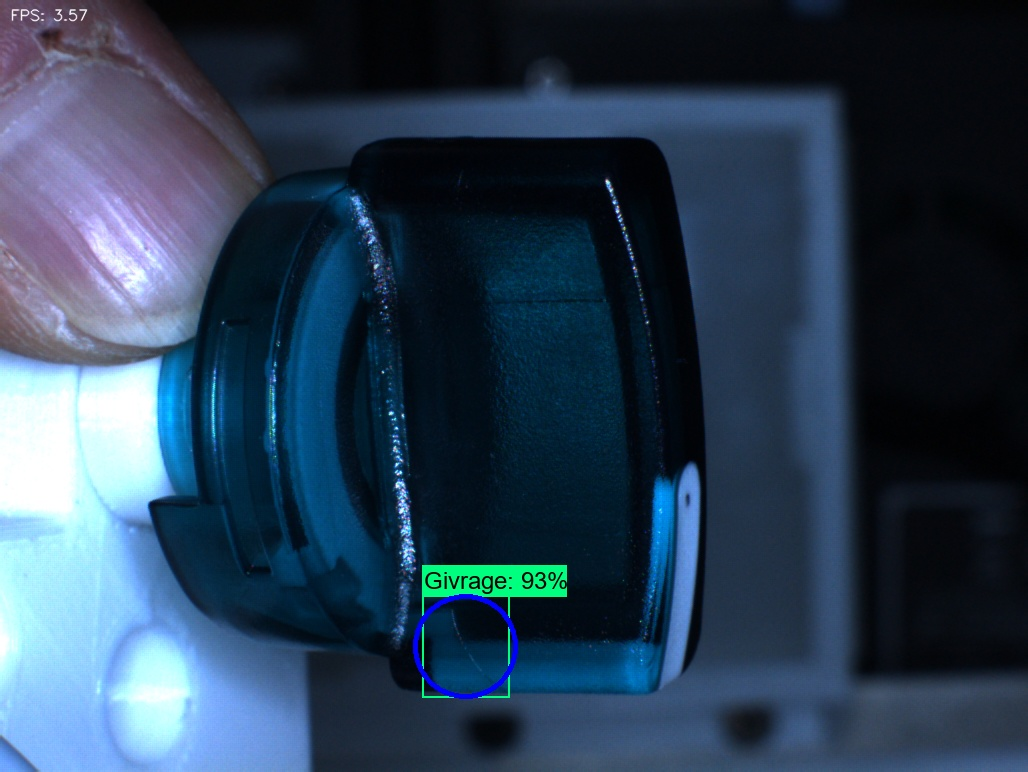PointNoir: (649, 446, 747, 551)
